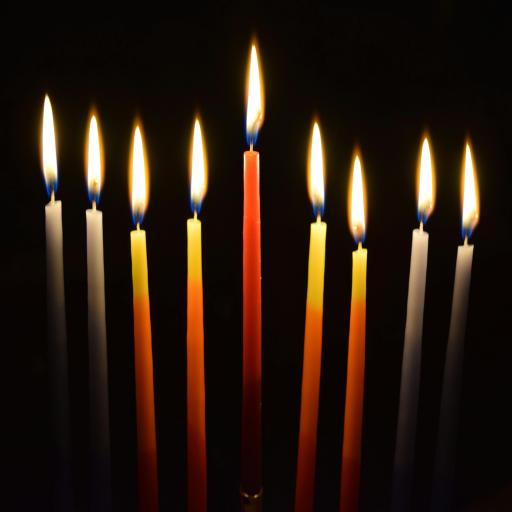candlelight: (25, 84, 79, 476), (388, 134, 432, 512), (436, 136, 478, 512), (291, 118, 328, 512), (128, 123, 162, 512), (338, 148, 370, 512), (241, 39, 266, 504), (84, 115, 111, 509), (184, 114, 208, 510), (41, 94, 59, 206), (245, 42, 263, 151), (462, 140, 478, 244)
